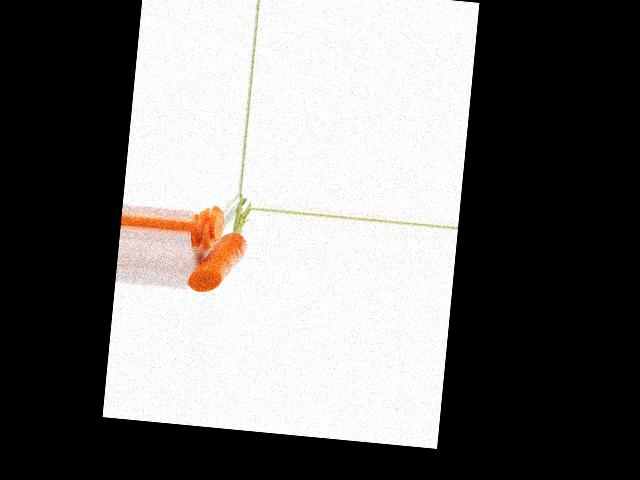carrot: (190, 228, 248, 292)
